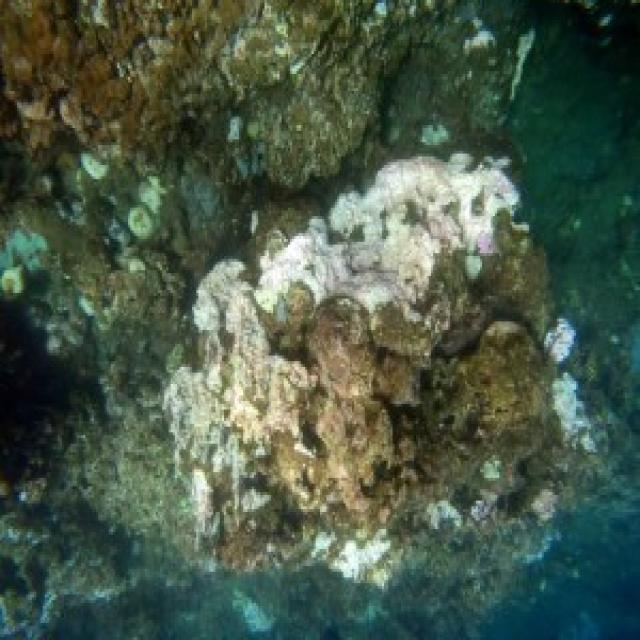Bleached: (1, 368, 197, 627), (256, 154, 525, 319), (169, 264, 309, 543), (426, 443, 504, 536), (307, 522, 398, 595), (547, 314, 590, 445), (1, 223, 49, 299), (1, 585, 60, 640), (131, 177, 171, 240), (514, 24, 543, 105), (229, 592, 279, 635), (466, 12, 498, 59), (562, 609, 607, 640), (348, 600, 392, 627), (535, 490, 560, 527), (81, 152, 108, 181), (627, 319, 640, 377), (91, 586, 125, 608), (424, 123, 449, 146)
Healthy: (206, 213, 554, 571), (1, 1, 507, 155), (556, 307, 640, 521), (250, 574, 522, 640), (37, 254, 199, 353), (17, 156, 138, 257)
